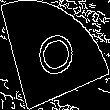O_W: (30, 27, 80, 83)
